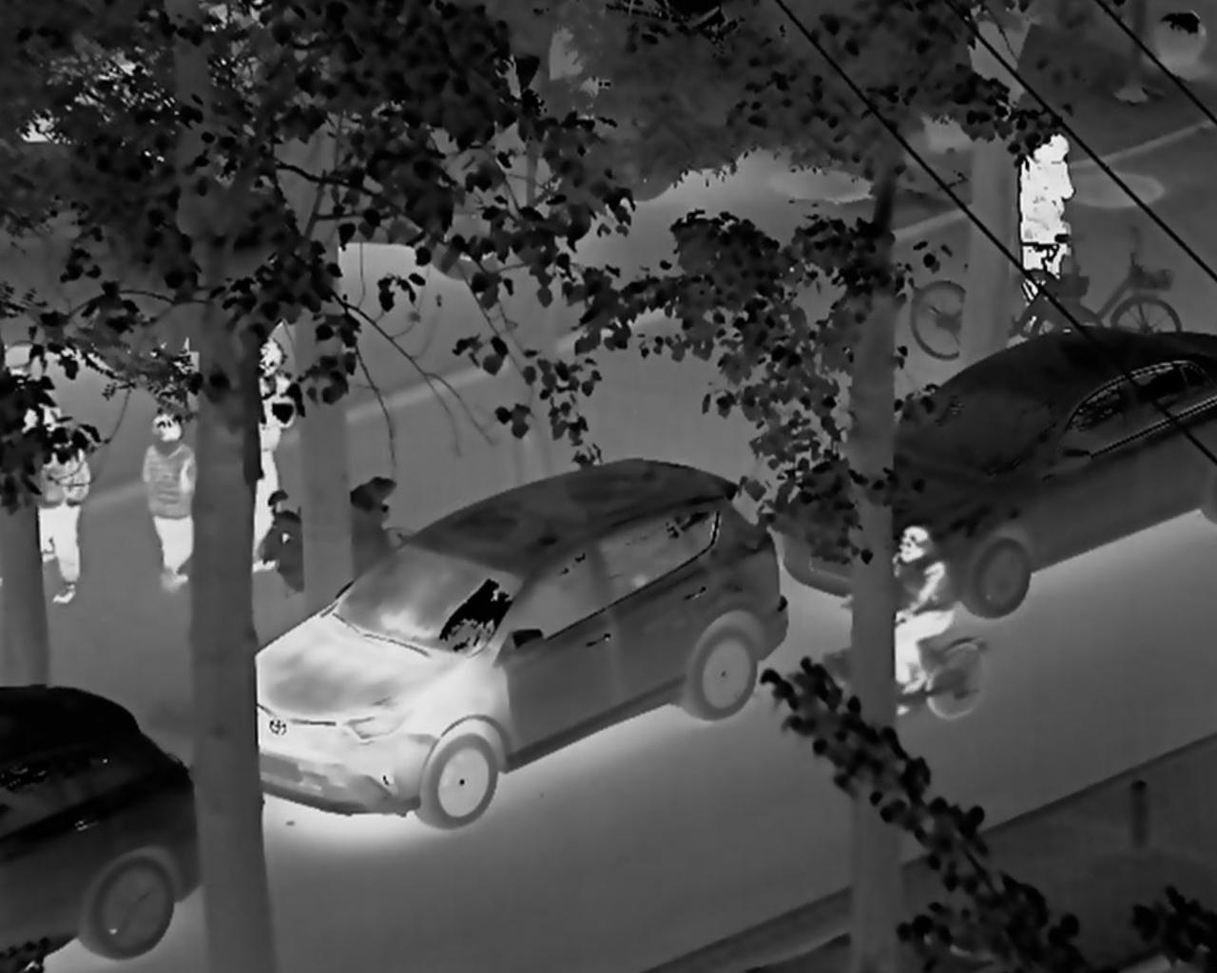person: (129, 409, 201, 583), (31, 398, 89, 609), (1018, 128, 1080, 309), (894, 526, 952, 713), (252, 338, 295, 567)
